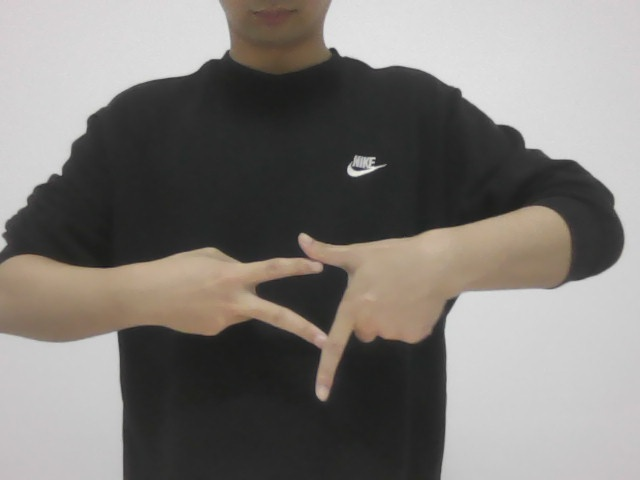introduce: (140, 216, 441, 409)
